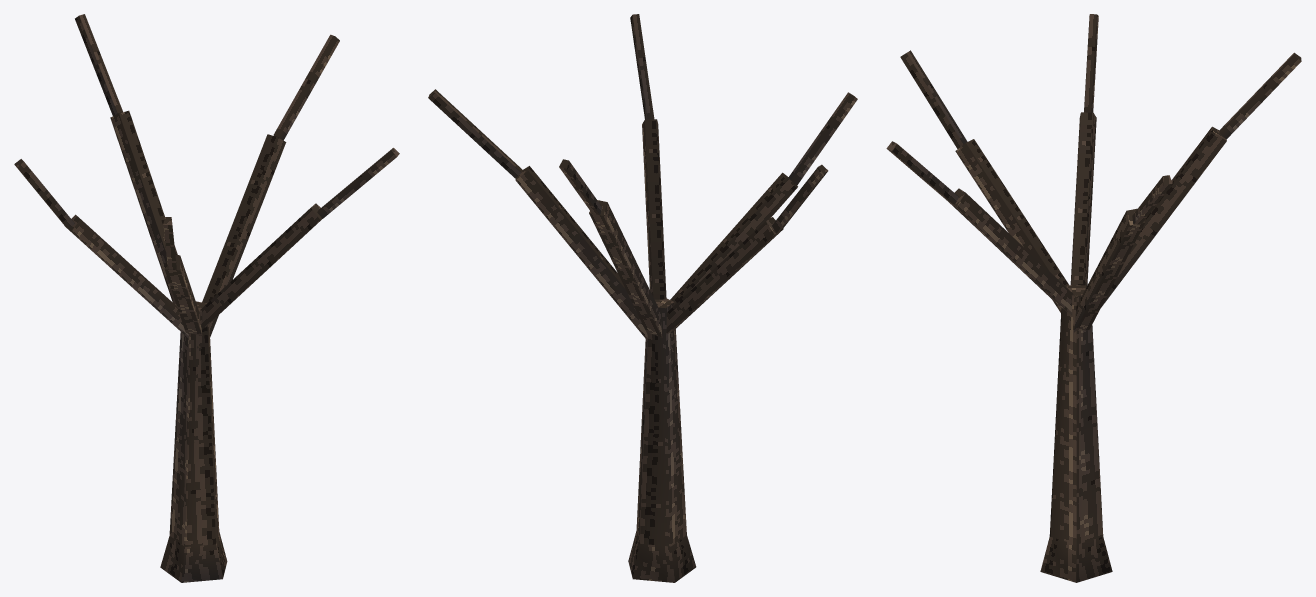
File: mnat.dead_tree.glb
The picture shows the model from 3 angles, left to right: view 1: azimuth 30°, elevation 25°; view 2: azimuth 150°, elevation 25°; view 3: azimuth 270°, elevation 25°; orthographic projection. The views are drawn at different scales.
Parts seen in each view (by area): view 1: kit_trunk; view 2: kit_trunk; view 3: kit_trunk.
Boxes of the visible parts, x1=… form: kit_trunk: x1=14, y1=14, x2=399, y2=582; kit_trunk: x1=428, y1=14, x2=857, y2=582; kit_trunk: x1=886, y1=14, x2=1301, y2=582.
Bounding box in the file's own units: 4.64 × 5.96 × 4.42.
1 material, 1 textured.
